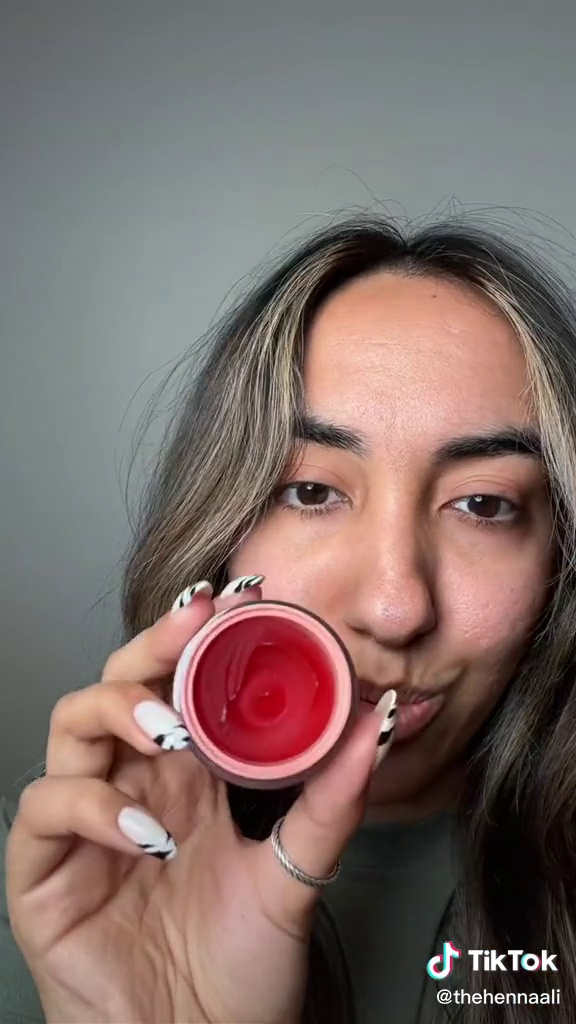train' :'yolo_data/train/images',: (159, 589, 362, 800)
